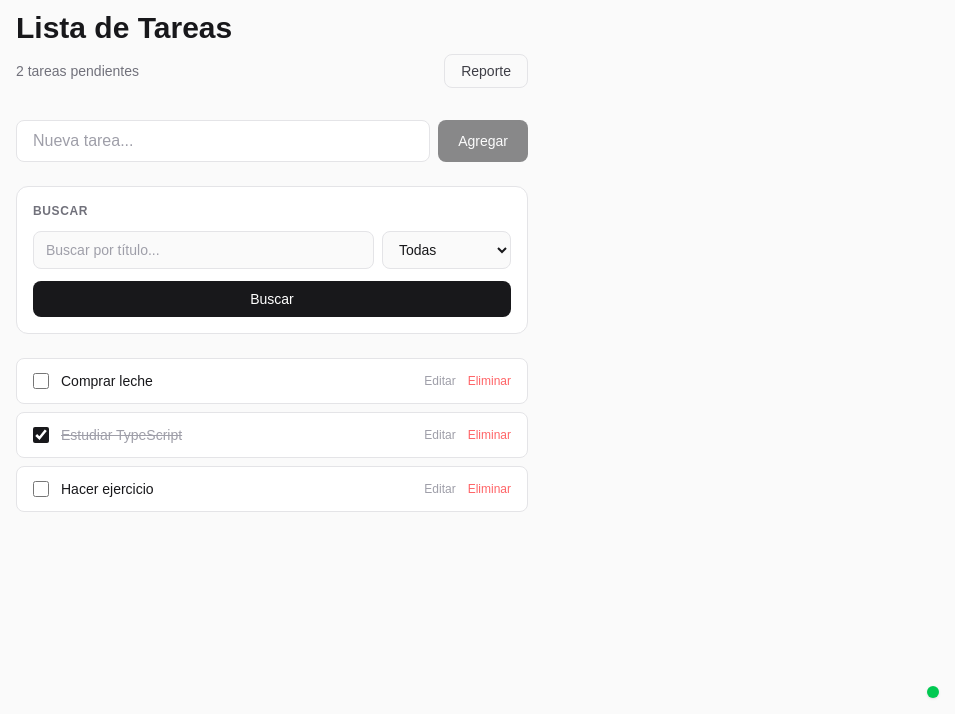
ListaTareas — búsqueda › filtra tareas por título al hacer clic en Buscar
This screenshot has width=955, height=714.
Check: the text "Comprar leche" is shown, box x1=61 y1=373 x2=153 y2=389
Type "leche" into the field labelled "Buscar por título" at (204,250), box x1=33 y1=231 x2=374 y2=269
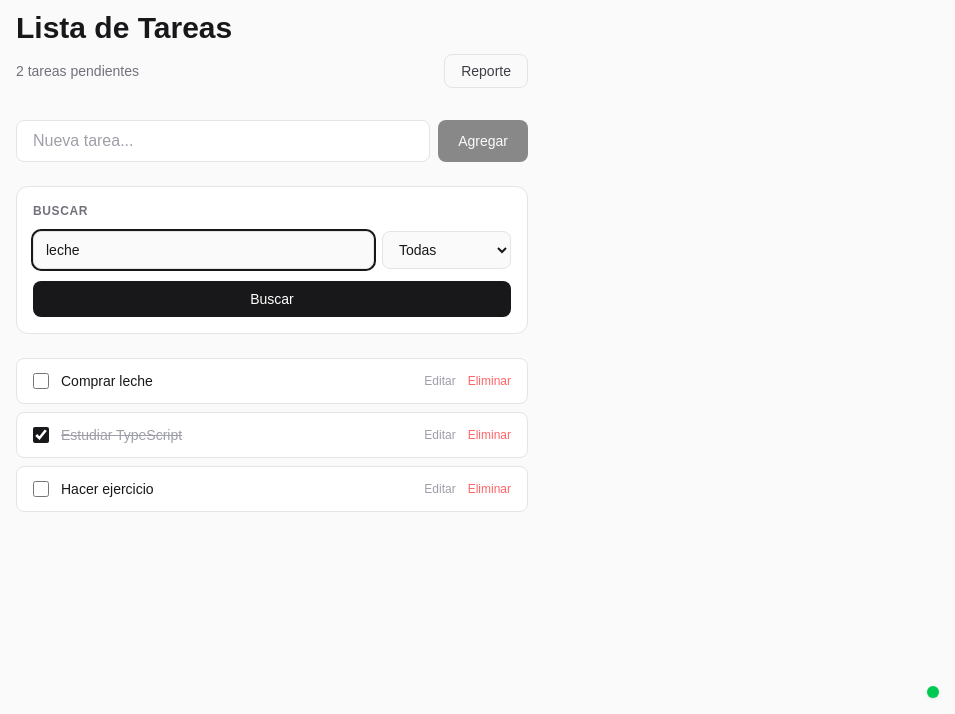
Click the button "Buscar" at (272,299), box x1=33 y1=281 x2=511 y2=317
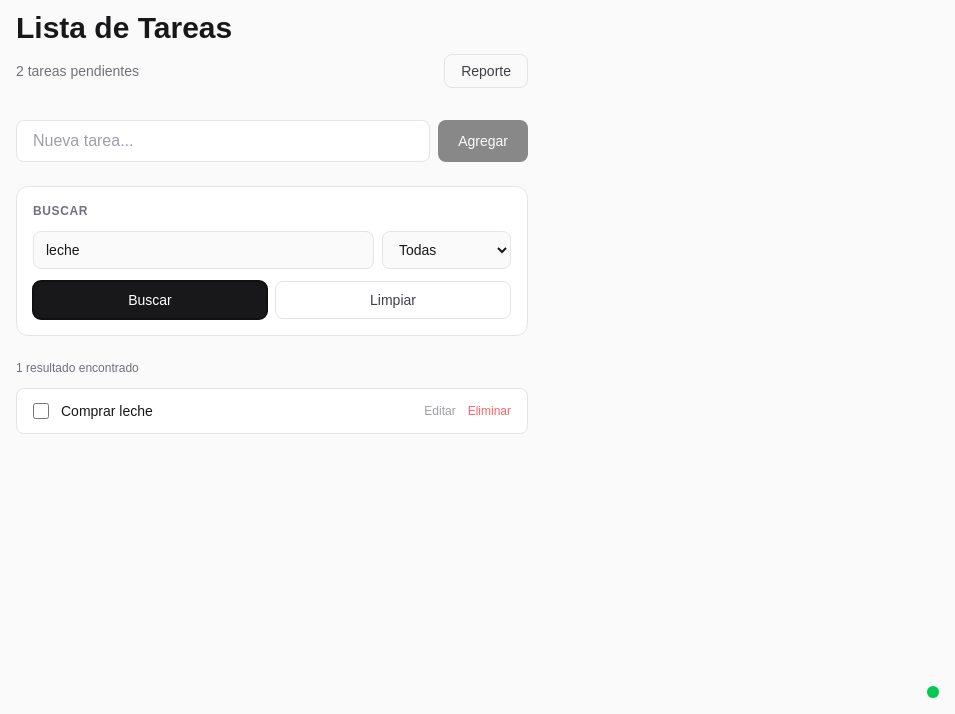
Check: the text "Comprar leche" is shown, box x1=61 y1=403 x2=153 y2=419
Check: the text "Estudiar TypeScript" is gone
Check: the text "Hacer ejercicio" is gone
